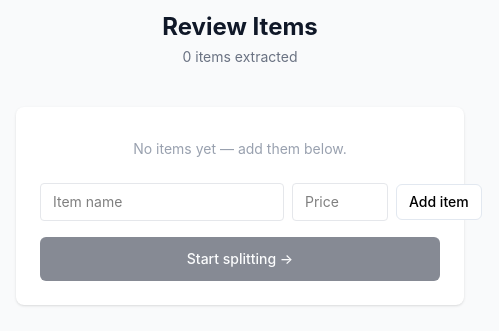
Scenario: ReviewScreen › Test 3: filling name and price inputs and clicking Add item adds the item
The width and height of the screenshot is (499, 331).
Type "Salad" into the field with placeholder "Item name" at [162, 202], box [40,183,284,221]
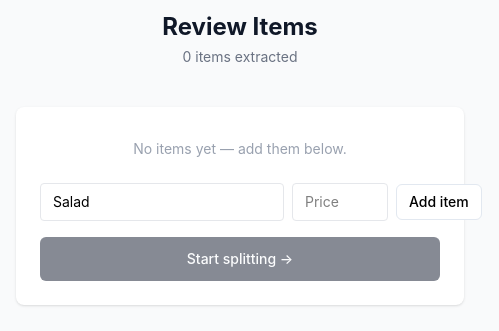
Type "9.50" into the number field with placeholder "Price" at [340, 202], box [292,183,388,221]
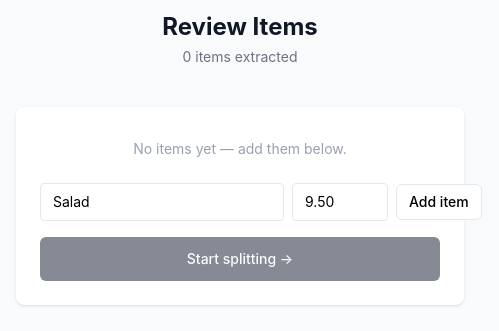
Click the button "Add item" at [439, 202], box [396,184,482,220]
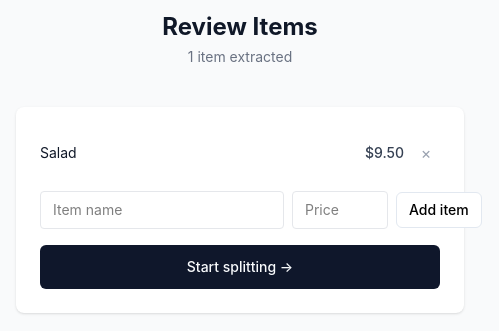
Expected: the text "Salad" is shown, [40,144,77,161]
Expected: the text "$9.50" is shown, [365,143,404,163]
